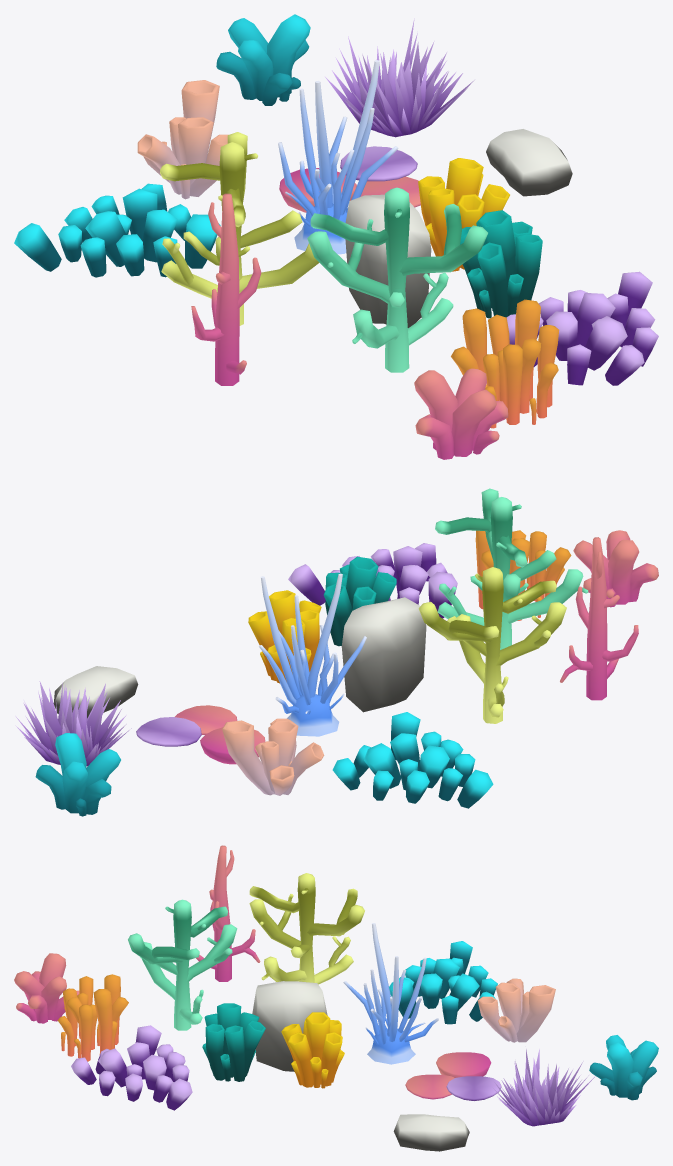
3 renders of one model, top to bottom at view 1: azimuth 30°, elevation 25°; view 2: azimuth 150°, elevation 25°; view 3: azimuth 270°, elevation 25°, orthographic. The views are drawn at different scales.
Visible parts, largest first — view 1: Cylinder_011_MainPlant_0, Cylinder_028_MainPlant_0, Cylinder_013_MainPlant_0, Cylinder_036_MainPlant_0, Cylinder_015_MainPlant_0, Cube_022, Plane_001_MainPlant_0, Cylinder_020, Cylinder_003, Cylinder_019, Cylinder_017, Cylinder_002 (+6 smaller); view 2: Cube_013_MainPlant_0, Cylinder_028_MainPlant_0, Cylinder_015_MainPlant_0, Cylinder_011_MainPlant_0, Cube_022, Cylinder_002, Plane_001_MainPlant_0, Cylinder_013_MainPlant_0, Cylinder_017, Cylinder_019, Cylinder_018, Cylinder_020 (+6 smaller); view 3: Cylinder_015_MainPlant_0, Cylinder_011_MainPlant_0, Cylinder_013_MainPlant_0, Cylinder_028_MainPlant_0, Cube_022, Cylinder_036_MainPlant_0, Cube_013_MainPlant_0, Cylinder_020, Plane_001_MainPlant_0, Cylinder_018, Cylinder_002, Cylinder_019 (+6 smaller).
Boxes of the visible parts, box(x1,y1,x2,y2) form: Cylinder_011_MainPlant_0: box(307, 187, 487, 372); Cylinder_028_MainPlant_0: box(14, 183, 220, 277); Cylinder_013_MainPlant_0: box(506, 271, 658, 385); Cylinder_036_MainPlant_0: box(451, 299, 559, 428); Cylinder_015_MainPlant_0: box(160, 132, 319, 325); Cube_022: box(278, 60, 398, 254); Plane_001_MainPlant_0: box(325, 18, 474, 137); Cylinder_020: box(460, 210, 542, 318); Cylinder_003: box(414, 368, 508, 459); Cylinder_019: box(216, 14, 310, 105); Cylinder_017: box(191, 193, 261, 385); Cylinder_002: box(137, 80, 228, 199); Cube_013_MainPlant_0: box(341, 597, 426, 712); Cylinder_028_MainPlant_0: box(332, 712, 493, 808); Cylinder_015_MainPlant_0: box(418, 567, 566, 723); Cylinder_011_MainPlant_0: box(435, 488, 588, 649); Cube_022: box(258, 573, 366, 736); Cylinder_002: box(222, 718, 324, 795); Plane_001_MainPlant_0: box(15, 681, 131, 766); Cylinder_013_MainPlant_0: box(288, 543, 457, 618); Cylinder_017: box(560, 537, 638, 700); Cylinder_019: box(35, 733, 120, 816); Cylinder_018: box(248, 590, 321, 683); Cylinder_020: box(323, 556, 396, 646); Cylinder_015_MainPlant_0: box(249, 873, 364, 984); Cylinder_011_MainPlant_0: box(128, 899, 237, 1030); Cylinder_013_MainPlant_0: box(71, 1025, 192, 1110); Cylinder_028_MainPlant_0: box(389, 941, 497, 1024); Cube_022: box(343, 923, 438, 1064); Cylinder_036_MainPlant_0: box(57, 974, 128, 1061); Cube_013_MainPlant_0: box(252, 981, 327, 1071); Cylinder_020: box(202, 1003, 265, 1081); Plane_001_MainPlant_0: box(492, 1049, 595, 1126); Cylinder_018: box(281, 1012, 344, 1088); Cylinder_002: box(477, 978, 555, 1042); Cylinder_019: box(589, 1035, 658, 1100).
Size of the model in its own units: 50.39 by 19.21 by 75.03.
Materials: 1 (1 with a texture image).
